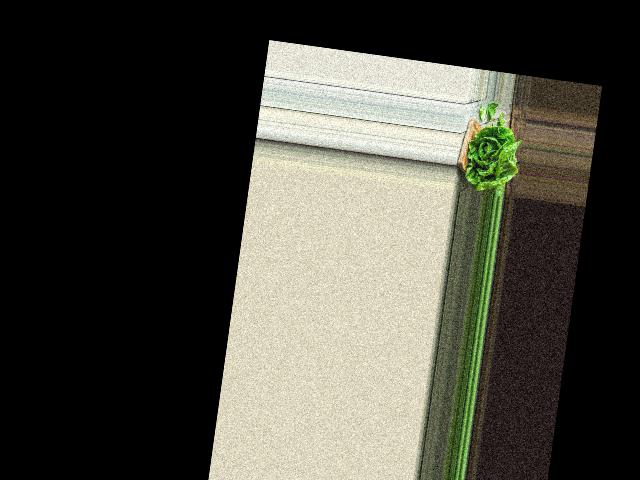lettuce: (459, 124, 521, 196)
